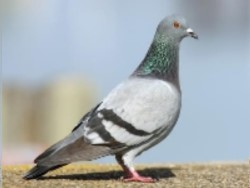pigeon: (22, 13, 200, 184)
